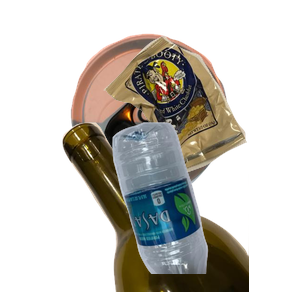glass: (60, 120, 300, 300)
metal: (68, 31, 288, 211)
plastic: (110, 120, 300, 300)
trash: (101, 33, 300, 206)
